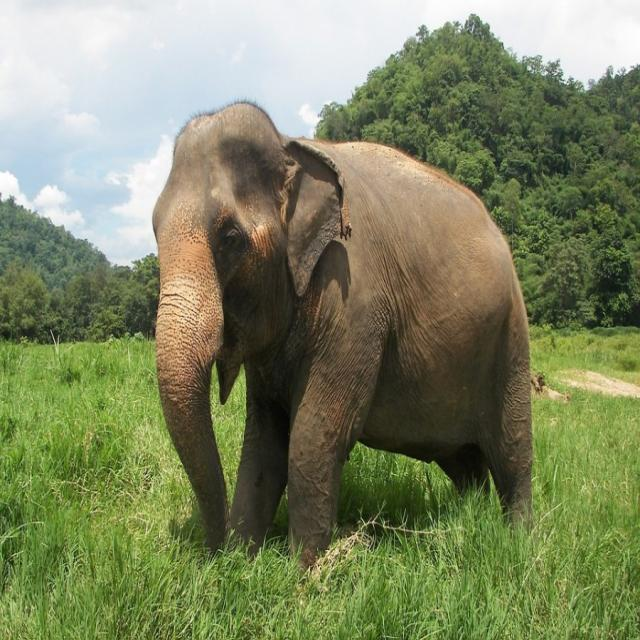Elephant: (139, 84, 546, 578)
